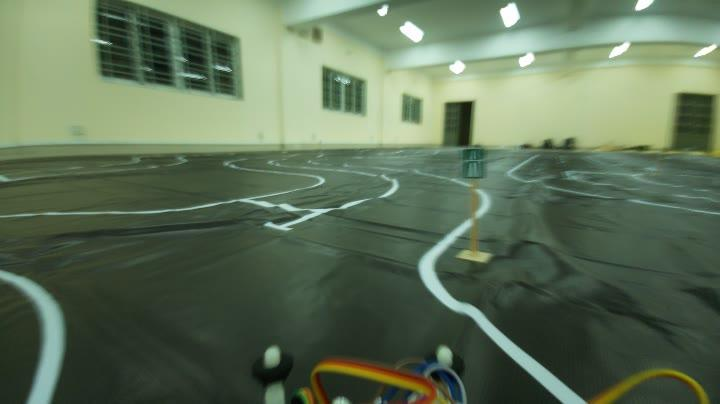highway_entry: (454, 142, 494, 186)
